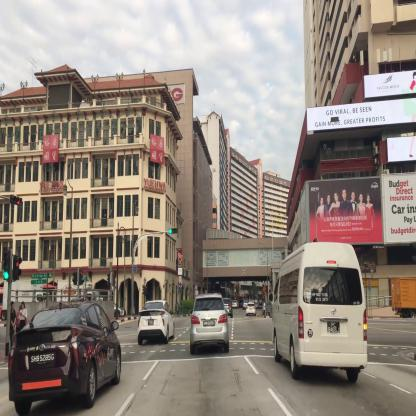green_traffic_light: (4, 251, 9, 280), (168, 228, 178, 233)
